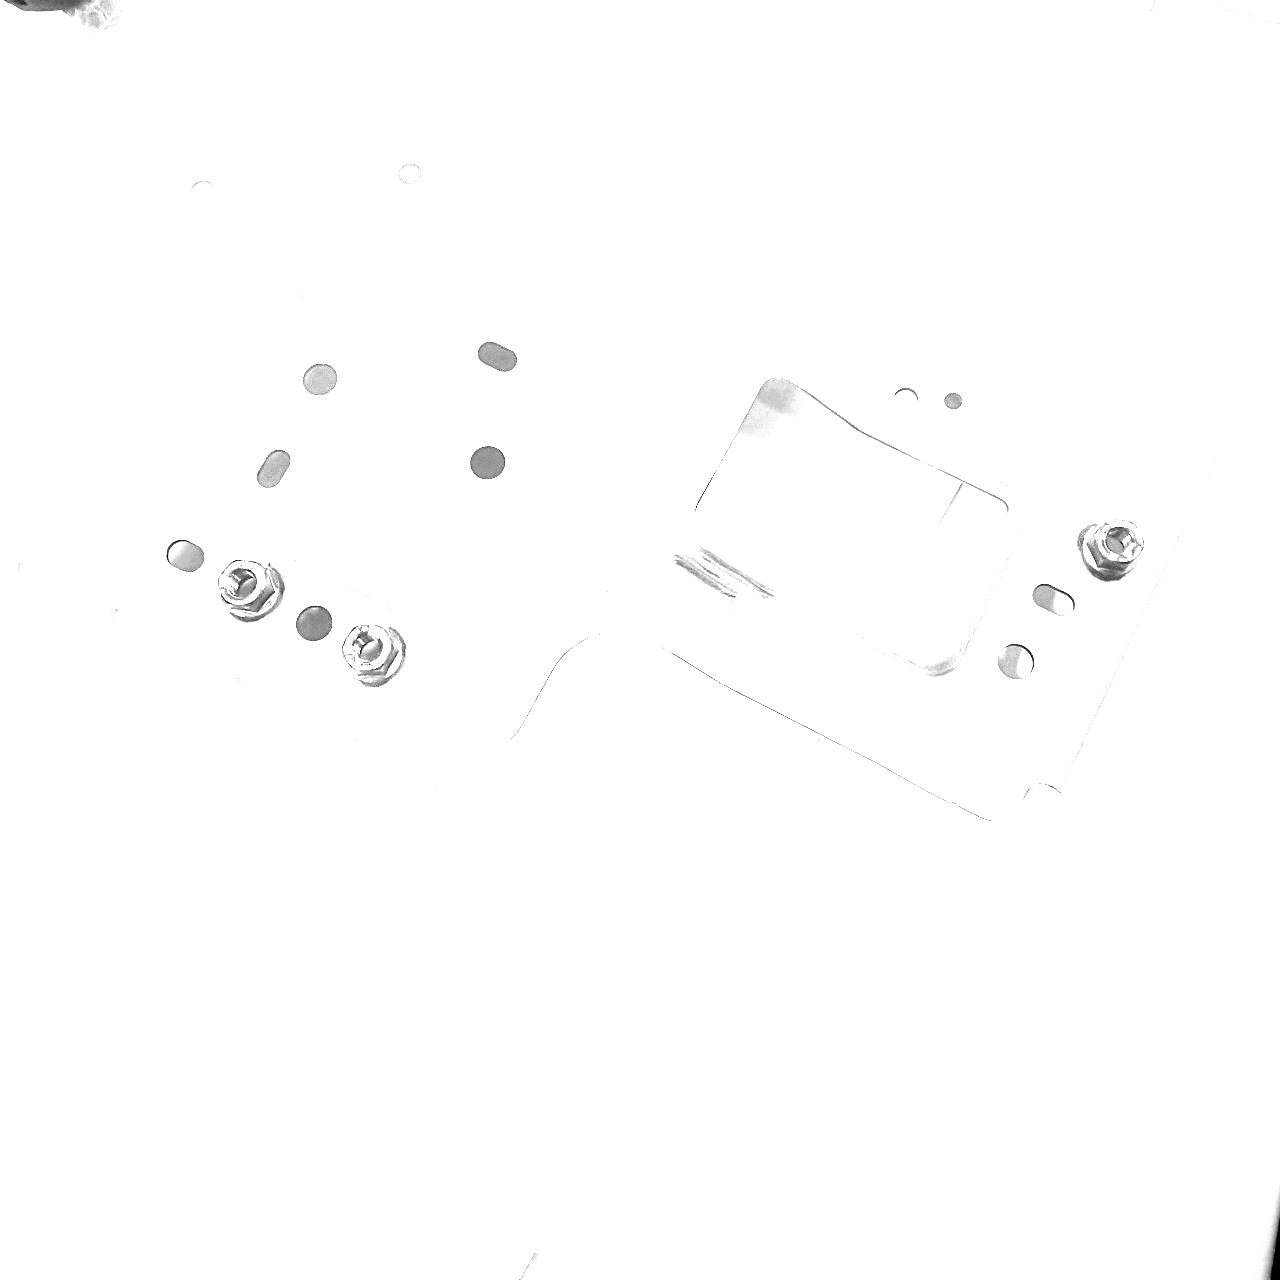dog: (1074, 512, 1150, 586), (336, 614, 408, 692), (216, 554, 286, 628)
